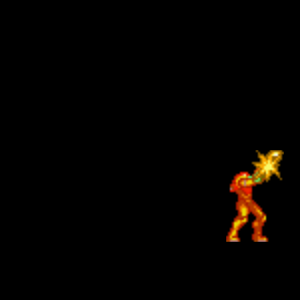Collectible: (226, 150, 284, 242)
